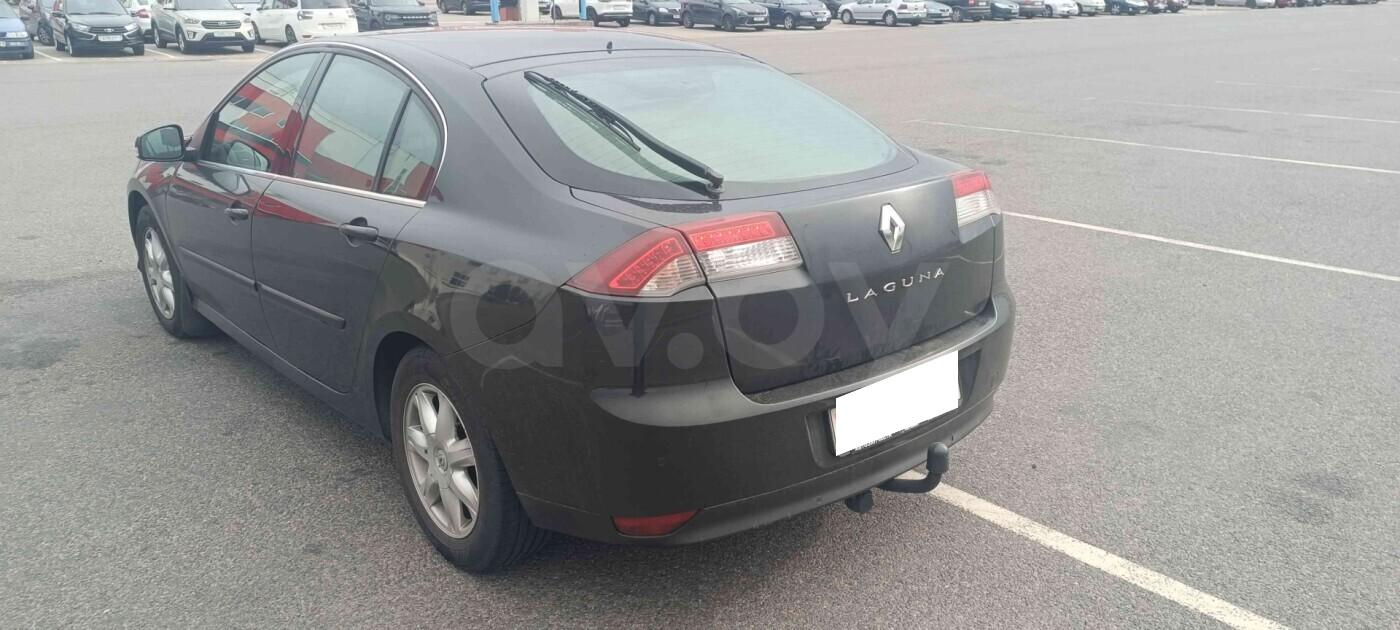Laguna_2007-2011: (122, 28, 1016, 571)
